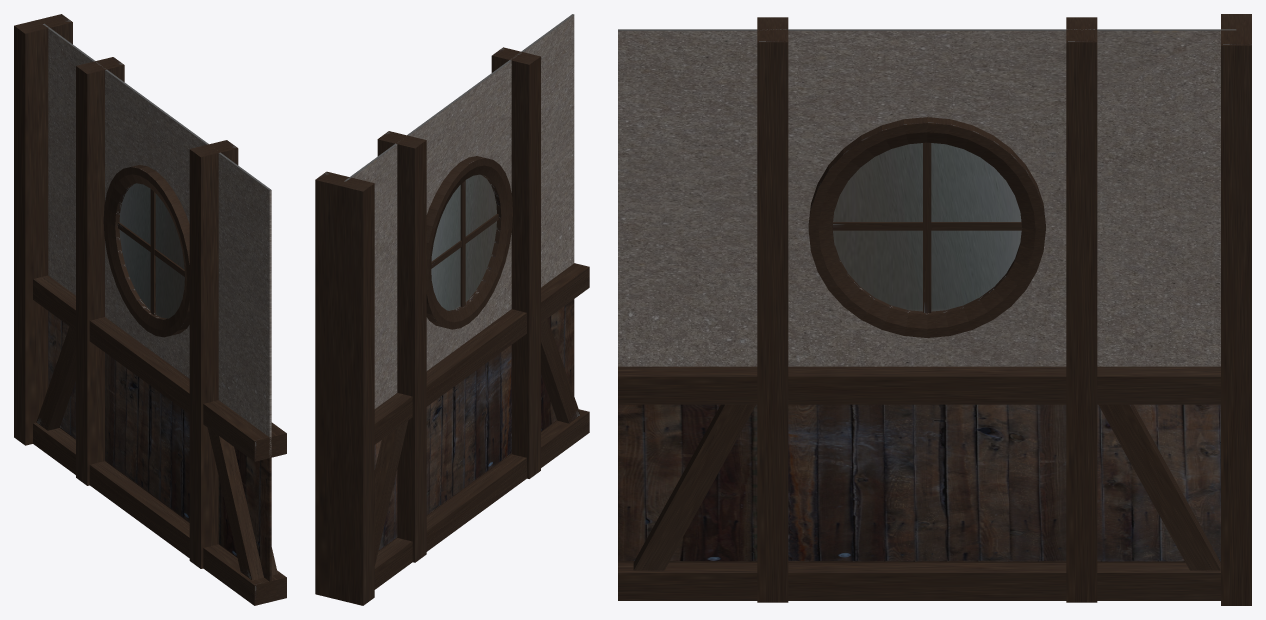
The model's file is OutdoorArchitecture_BasicWall01_Window01_RightEdge_BShortt.fbx.
3 renders of one model, left to right at view 1: azimuth 30°, elevation 25°; view 2: azimuth 150°, elevation 25°; view 3: azimuth 270°, elevation 25°, orthographic. The views are drawn at different scales.
Parts seen in each view (by area): view 1: OutdoorArchitecture_BasicWall01_Window02_RightEdge_BShortt; view 2: OutdoorArchitecture_BasicWall01_Window02_RightEdge_BShortt; view 3: OutdoorArchitecture_BasicWall01_Window02_RightEdge_BShortt.
Part boxes in pixels (x1=…): OutdoorArchitecture_BasicWall01_Window02_RightEdge_BShortt: x1=14, y1=14, x2=286, y2=605; OutdoorArchitecture_BasicWall01_Window02_RightEdge_BShortt: x1=315, y1=14, x2=589, y2=605; OutdoorArchitecture_BasicWall01_Window02_RightEdge_BShortt: x1=618, y1=14, x2=1251, y2=605.
Size of the model in its own units: 36.37 by 300 by 308.
